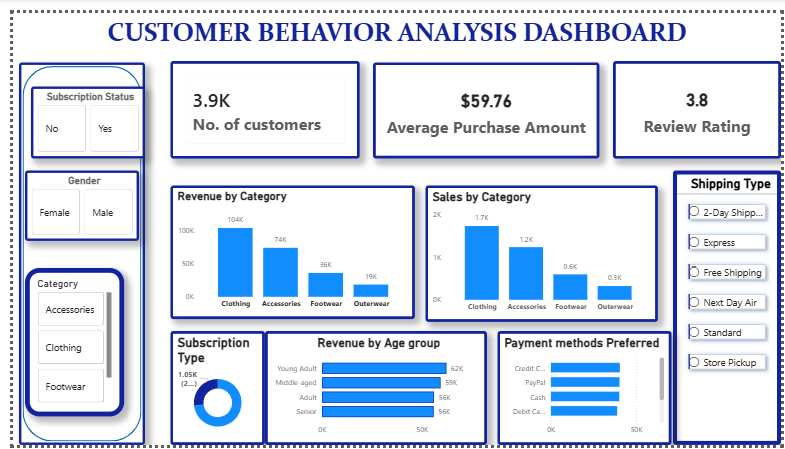

This screenshot's page, from the dashboard's own definition file:
{"tool":"powerbi","page":{"name":"Page 1","canvas":[1280,720],"ordinal":0},"visuals":[{"type":"shape","box":[10,82.5,210,637.5],"z":0},{"type":"advancedSlicerVisual","title":"Gender","fields":{"Label":["Sum(customer_behavior customer_data.customer_id)"],"Values":["customer_behavior customer_data.gender"]},"box":[20,262.5,190,117.5],"z":1000},{"type":"advancedSlicerVisual","title":"Category","fields":{"Values":["customer_behavior customer_data.category"]},"box":[20,425,165,247.5],"z":2000},{"type":"listSlicer","title":"Shipping Type","fields":{"Values":["customer_behavior customer_data.shipping_type"]},"box":[1100,262.5,180,457.5],"z":3000},{"type":"cardVisual","fields":{"Data":["customer_behavior customer_data.Number of customers"]},"box":[262.5,80,315,162.5],"z":4000},{"type":"card","fields":{"Values":["customer_behavior customer_data.Review Rating"]},"box":[1000,80,280,162.5],"z":5000},{"type":"card","fields":{"Values":["customer_behavior customer_data.Average Purchase Amount"]},"box":[600,82.5,377.5,160],"z":6000},{"type":"clusteredColumnChart","title":"Revenue by Category","fields":{"Y":["Sum(customer_behavior customer_data.purchase_amount_(usd))"],"Category":["customer_behavior customer_data.category"]},"box":[262.5,287.5,407.5,222.5],"z":7000},{"type":"clusteredColumnChart","title":"Sales by Category","fields":{"Category":["customer_behavior customer_data.category"],"Y":["CountNonNull(customer_behavior customer_data.customer_id)"]},"box":[687.5,287.5,387.5,227.5],"z":8000},{"type":"donutChart","title":"Subscription Type","fields":{"Category":["customer_behavior customer_data.subscription_status"],"Y":["CountNonNull(customer_behavior customer_data.customer_id)"]},"box":[262.5,530,157.5,190],"z":9000},{"type":"clusteredBarChart","title":"Revenue by Age group","fields":{"Y":["Sum(customer_behavior customer_data.purchase_amount_(usd))"],"Category":["customer_behavior customer_data.age_group"]},"box":[420,530,370,190],"z":10000},{"type":"clusteredBarChart","title":"Payment methods Preferred","fields":{"Y":["Sum(customer_behavior customer_data.purchase_amount_(usd))"],"Category":["customer_behavior customer_data.payment_method"]},"box":[807.5,530,290,190],"z":11000},{"type":"textbox","box":[0,0,1280,80],"z":12000},{"type":"advancedSlicerVisual","title":"Subscription Status","fields":{"Label":["Sum(customer_behavior customer_data.customer_id)"],"Values":["customer_behavior customer_data.subscription_status"]},"box":[30,122.5,190,120],"z":12001}]}

Visuals, with their boxes in screenshot pixels (x1, y1, x2, y2), scaled from the page's 1280x720 canvas onto the 785x449 screenshot:
shape: (6,51,135,448)
"Gender" advancedSlicerVisual: (12,164,129,237)
"Category" advancedSlicerVisual: (12,265,113,419)
"Shipping Type" listSlicer: (675,164,784,448)
cardVisual - customer_behavior customer_data.Number of customers: (161,50,354,151)
card - customer_behavior customer_data.Review Rating: (613,50,784,151)
card - customer_behavior customer_data.Average Purchase Amount: (368,51,599,151)
"Revenue by Category" clusteredColumnChart: (161,179,411,318)
"Sales by Category" clusteredColumnChart: (422,179,659,321)
"Subscription Type" donutChart: (161,331,258,448)
"Revenue by Age group" clusteredBarChart: (258,331,484,448)
"Payment methods Preferred" clusteredBarChart: (495,331,673,448)
textbox: (0,0,784,50)
"Subscription Status" advancedSlicerVisual: (18,76,135,151)
